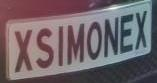0: (85, 18, 104, 66)
1: (56, 22, 71, 72)
E: (119, 11, 135, 58)
M: (66, 19, 86, 71)
N: (104, 15, 120, 61)
S: (34, 24, 57, 73)
X: (11, 24, 36, 75), (134, 7, 148, 55)
